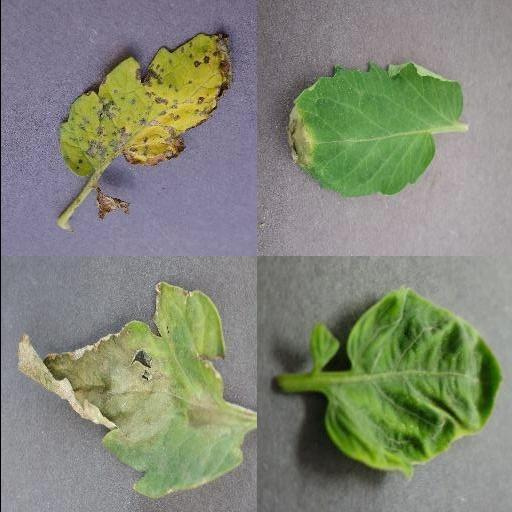Late Blight: (15, 279, 247, 501), (281, 62, 465, 198)
Septoria: (60, 31, 232, 179)
Yellow Leaf Curl Virus: (321, 287, 503, 482)
